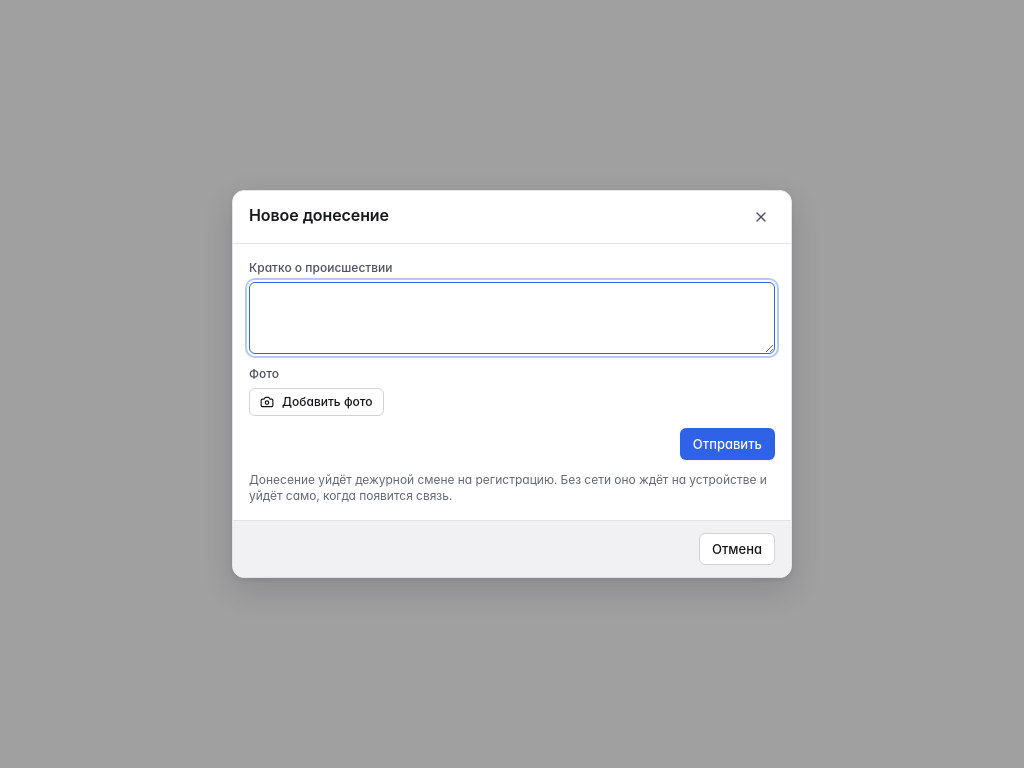
ReportDialog › со связью — создаёт документ с ключом устройства и отправляет дежурной смене
This screenshot has width=1024, height=768.
Type "Подмыт мост" into the text box labelled "Кратко о происшествии".
click(512, 318); type("Подмыт мост")  # box x1=249 y1=282 x2=775 y2=354
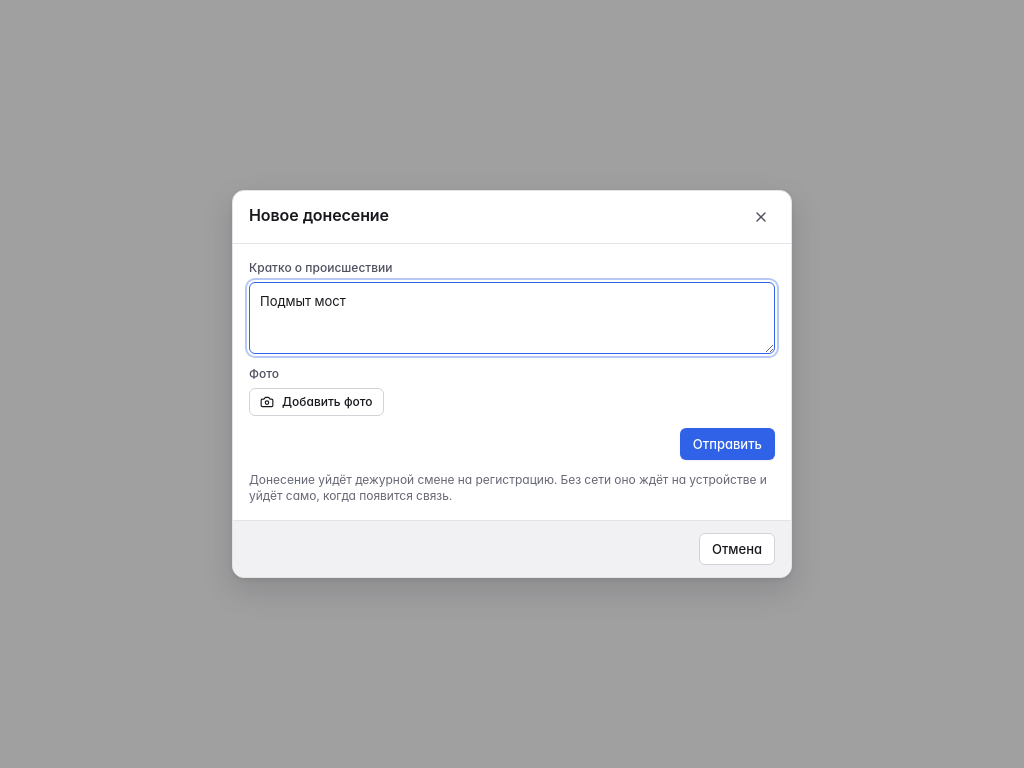
Click the button "Отправить".
click(727, 444)  # box x1=680 y1=428 x2=775 y2=460
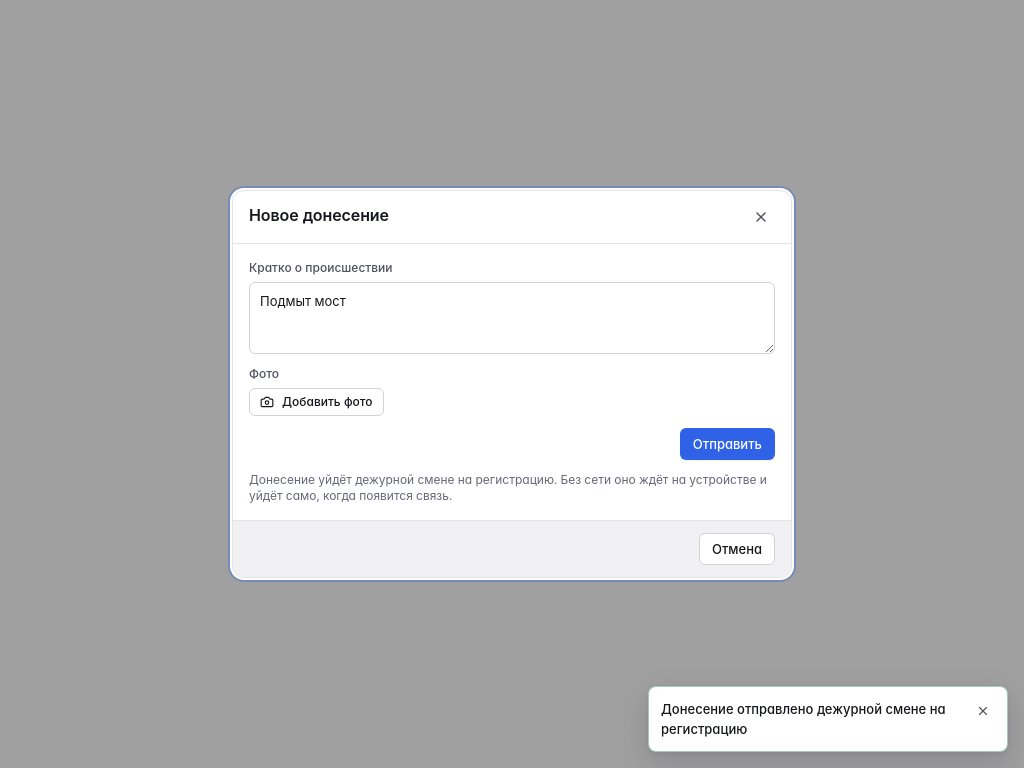
Now the text "Донесение отправлено дежурной смене на регистрацию" is shown, box x1=661 y1=699 x2=959 y2=739
